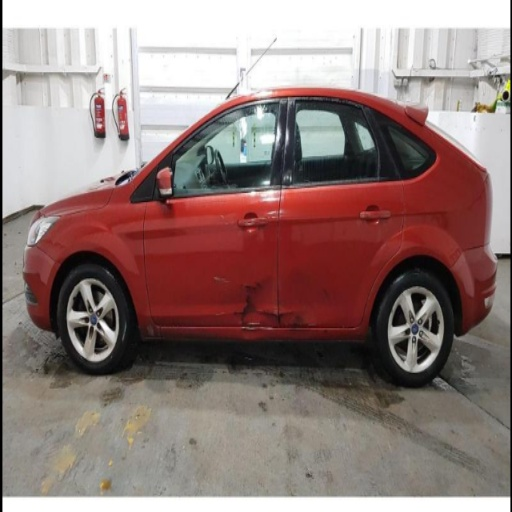dent: (238, 263, 327, 328), (245, 328, 262, 337)
rust: (146, 323, 158, 336)
scratch: (242, 323, 273, 332), (213, 276, 229, 284), (216, 312, 225, 316), (221, 215, 224, 219)
